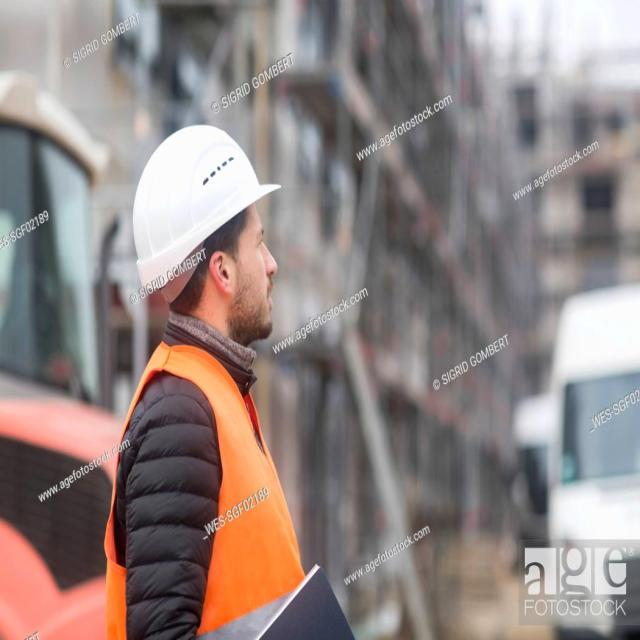helmet: (128, 122, 282, 291)
no-goggles: (213, 224, 276, 282)
vest: (108, 335, 319, 640)
